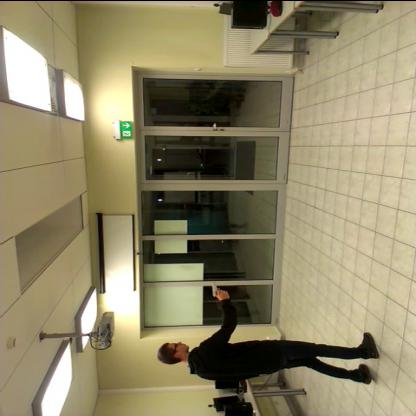Pistol: (206, 276, 233, 300)
